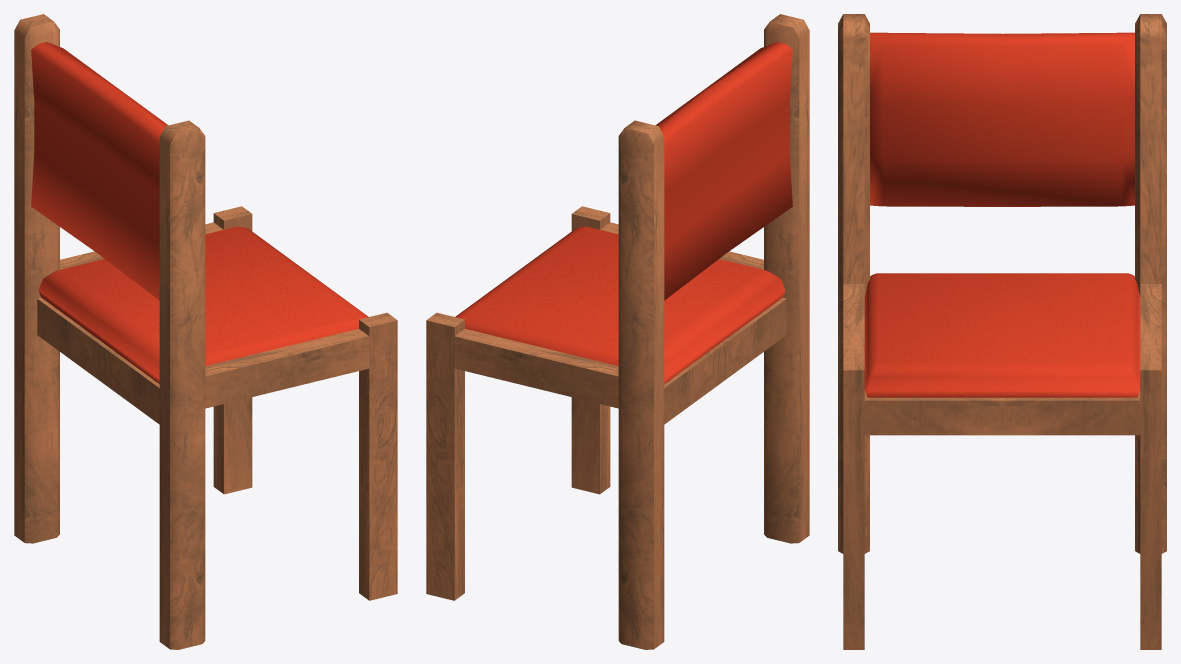
Rendered from Chair Red.fbx.
3 renders of one model, left to right at view 1: azimuth 30°, elevation 25°; view 2: azimuth 150°, elevation 25°; view 3: azimuth 270°, elevation 25°, orthographic. The views are drawn at different scales.
Parts seen in each view (by area): view 1: Chair Red; view 2: Chair Red; view 3: Chair Red.
Part boxes in pixels (bbox=[...]): Chair Red: bbox=[14, 14, 397, 649]; Chair Red: bbox=[426, 14, 809, 649]; Chair Red: bbox=[838, 14, 1166, 649].
Bounding box in the file's own units: 29.08 × 62.78 × 35.62.
